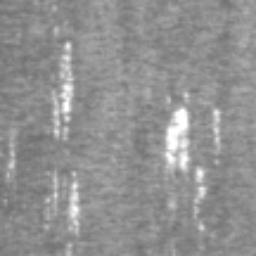White rust: (53, 42, 74, 137), (163, 107, 190, 172), (68, 180, 81, 226), (195, 167, 207, 203), (213, 109, 221, 145)
